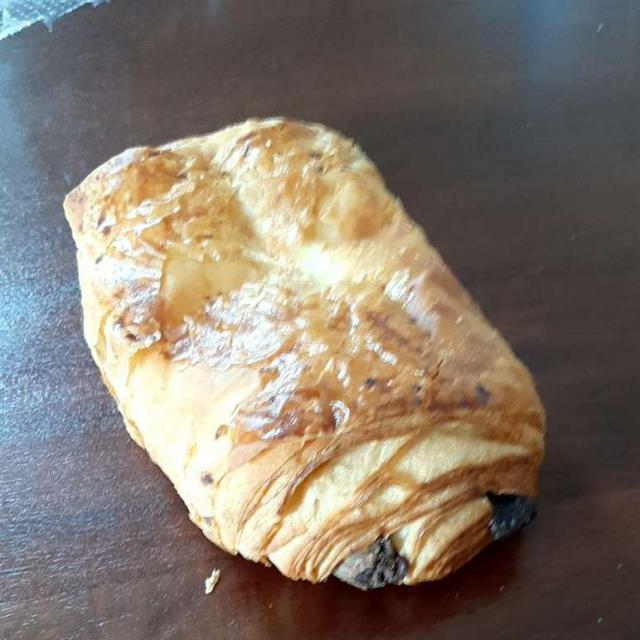roll-with-pieces-of-chocolate: (68, 124, 536, 576)
